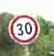limite 30: (6, 14, 41, 44)
